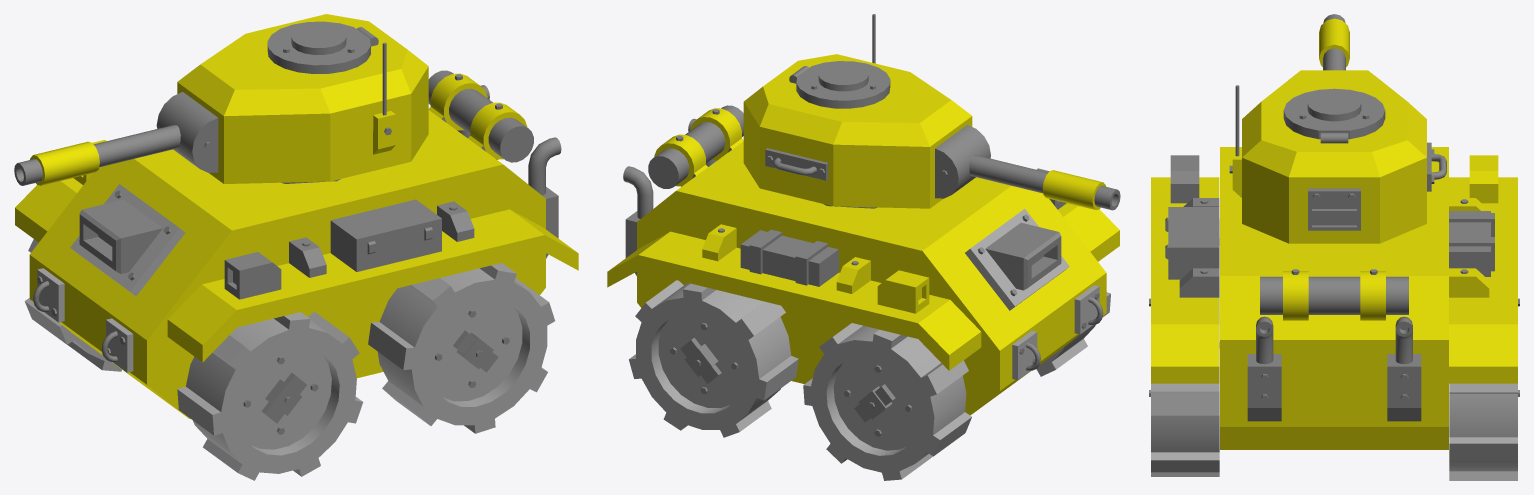
The model's file is cartoon_tank.fbx.
3 views of the same model, side by side, from view 1: azimuth 30°, elevation 25°; view 2: azimuth 150°, elevation 25°; view 3: azimuth 270°, elevation 25° (orthographic). The views are drawn at different scales.
Parts seen in each view (by area): view 1: polySurface2271; view 2: polySurface2271; view 3: polySurface2271.
Boxes of the visible parts, box(x1,y1,x2,y2) form: polySurface2271: box(14, 14, 578, 480); polySurface2271: box(607, 14, 1120, 480); polySurface2271: box(1149, 14, 1519, 480).
Bounding box in the file's own units: 301 × 212 × 198.
